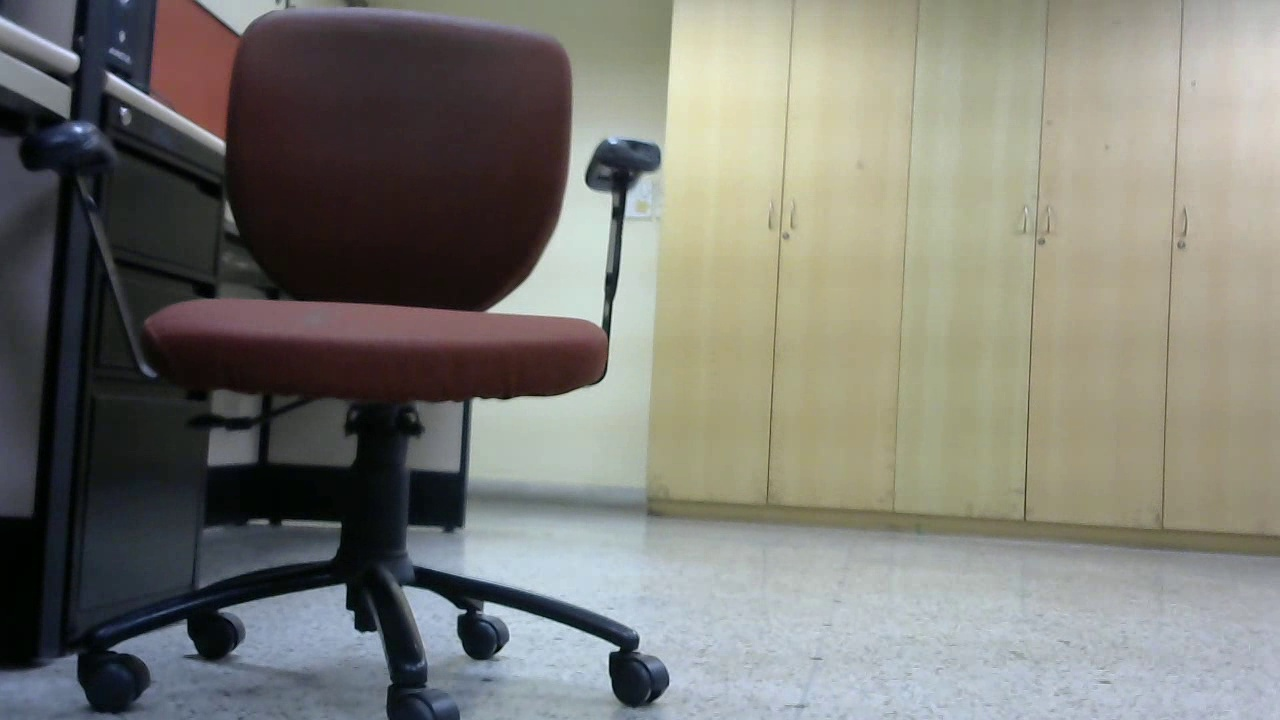chair: (738, 226, 1018, 594), (354, 196, 558, 539)
